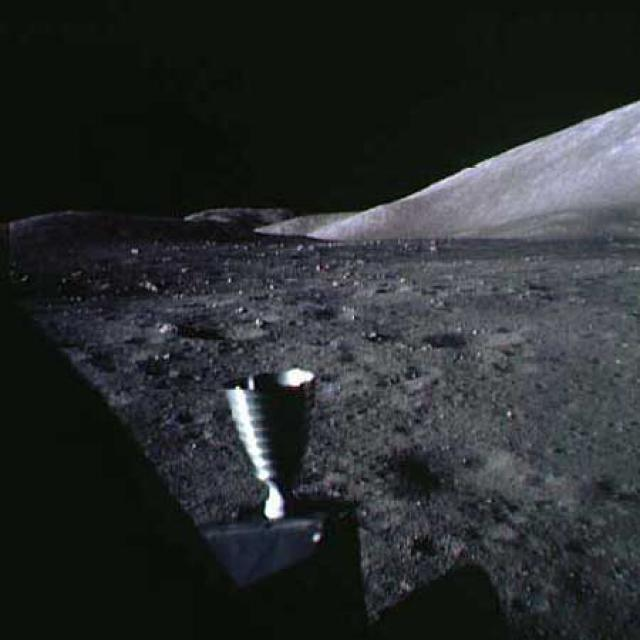artifact: (171, 354, 387, 639)
crater: (413, 325, 520, 351), (177, 316, 266, 344), (301, 300, 365, 322), (89, 348, 144, 372)
